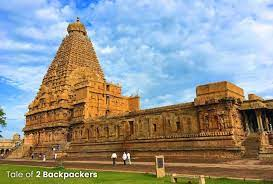Temple: (21, 15, 118, 143)
